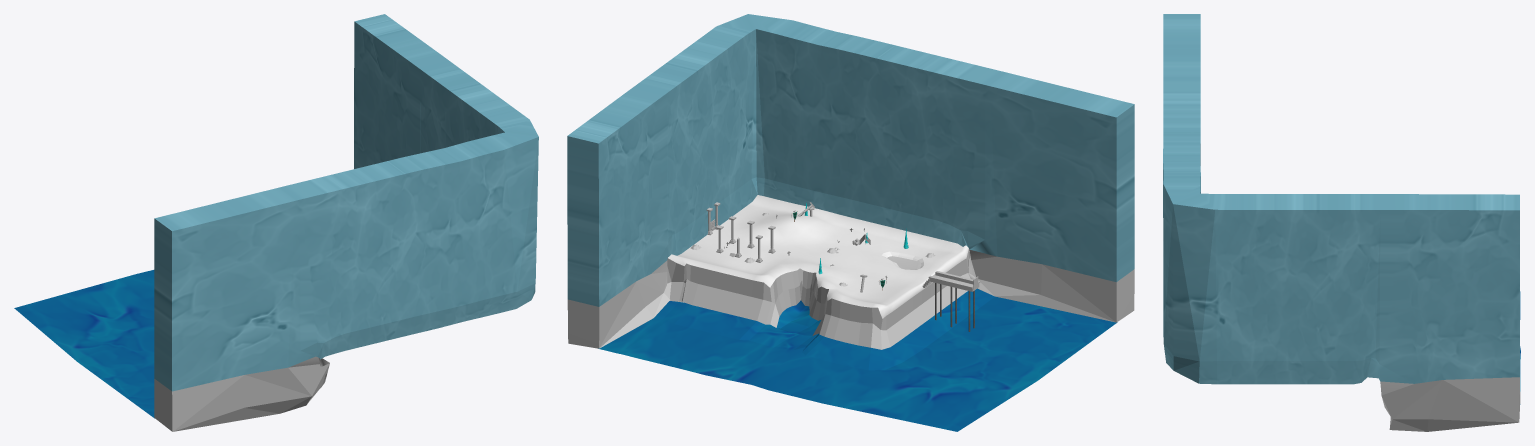
Rendered from Extérieur fini.FBX.
The picture shows the model from 3 angles, left to right: view 1: azimuth 30°, elevation 25°; view 2: azimuth 150°, elevation 25°; view 3: azimuth 270°, elevation 25°; orthographic projection. The views are drawn at different scales.
Parts seen in each view (by area): view 1: Mur, Sol Fond; view 2: Mur, Sol Fond, Sol, Parois, Pont; view 3: Mur.
Boxes of the visible parts, <box> form: Mur: <box>154,14,538,431</box>; Sol Fond: <box>14,270,154,418</box>; Mur: <box>567,14,1134,348</box>; Sol Fond: <box>598,288,1117,431</box>; Sol: <box>668,195,968,318</box>; Parois: <box>664,249,970,349</box>; Pont: <box>922,271,980,331</box>; Mur: <box>1163,14,1520,431</box>.
Size of what is drawn, in the model's own units: 2960 by 1626 by 2277.
